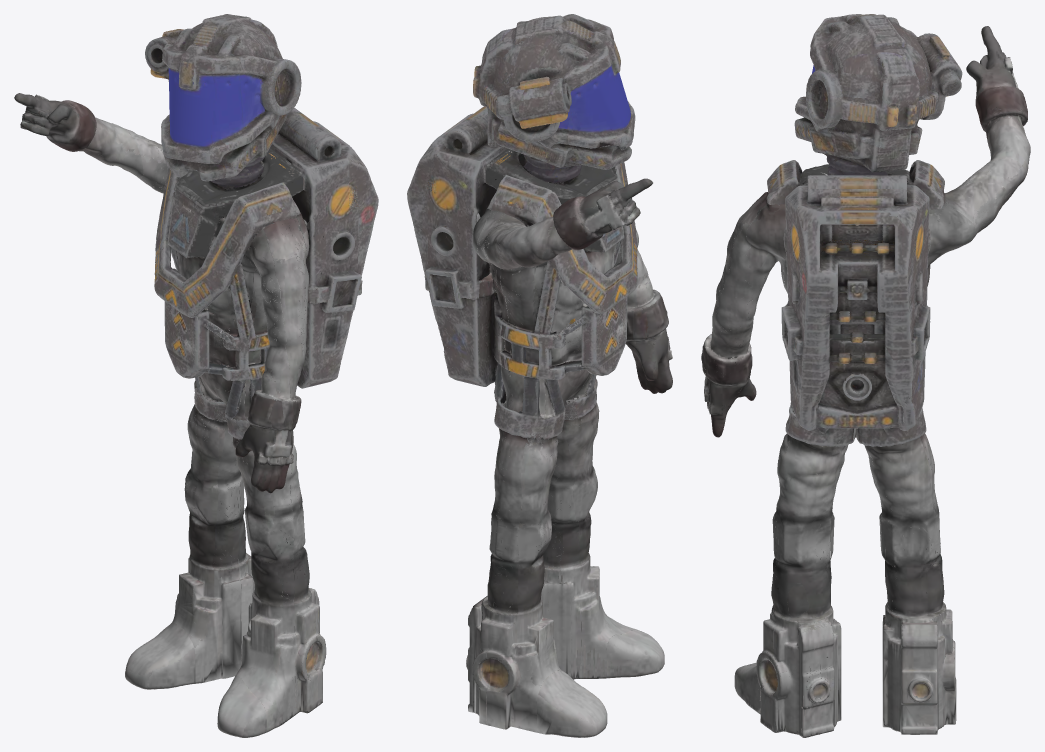
File: astronaut.glb
3 views of the same model, side by side, from view 1: azimuth 30°, elevation 25°; view 2: azimuth 150°, elevation 25°; view 3: azimuth 270°, elevation 25° (orthographic). The views are drawn at different scales.
Parts seen in each view (by area): view 1: defaultMaterial (×4); view 2: defaultMaterial (×4); view 3: defaultMaterial (×4).
Part boxes in pixels (x1=…): defaultMaterial (×4): x1=14, y1=14, x2=378, y2=737; defaultMaterial (×4): x1=407, y1=14, x2=672, y2=737; defaultMaterial (×4): x1=701, y1=14, x2=1030, y2=737.
Bounding box in the file's own units: 0.8719 × 2 × 0.8637.
4 materials, 4 textured.
